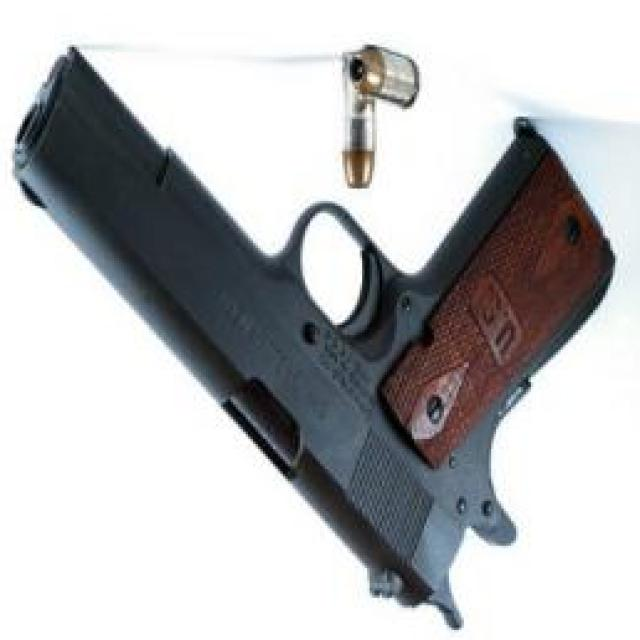pistol: (15, 42, 620, 640)
